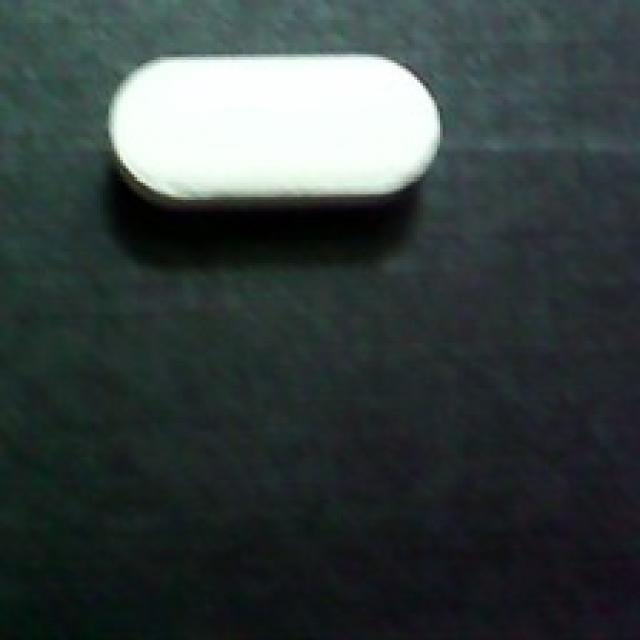no-defect: (103, 46, 443, 229)
